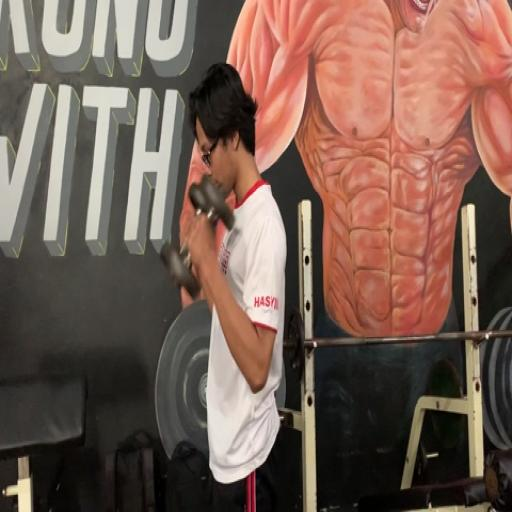exercise: (176, 60, 291, 510)
